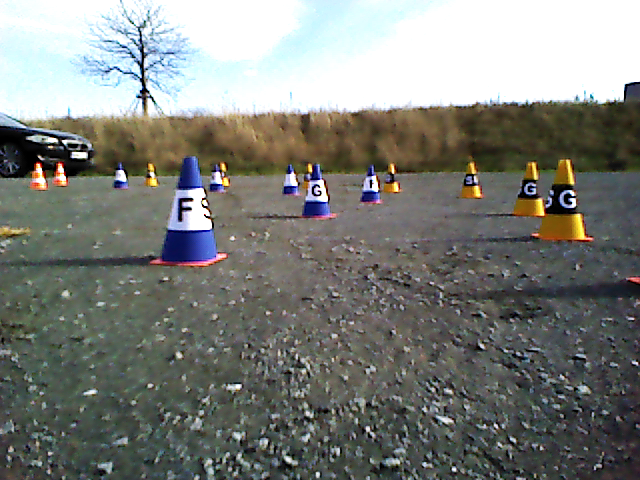bluecone: (161, 157, 216, 259), (302, 164, 330, 215), (361, 165, 382, 202), (283, 164, 298, 195)
yellowcone: (540, 160, 585, 237), (516, 162, 543, 215), (461, 162, 482, 197), (383, 163, 401, 191)
